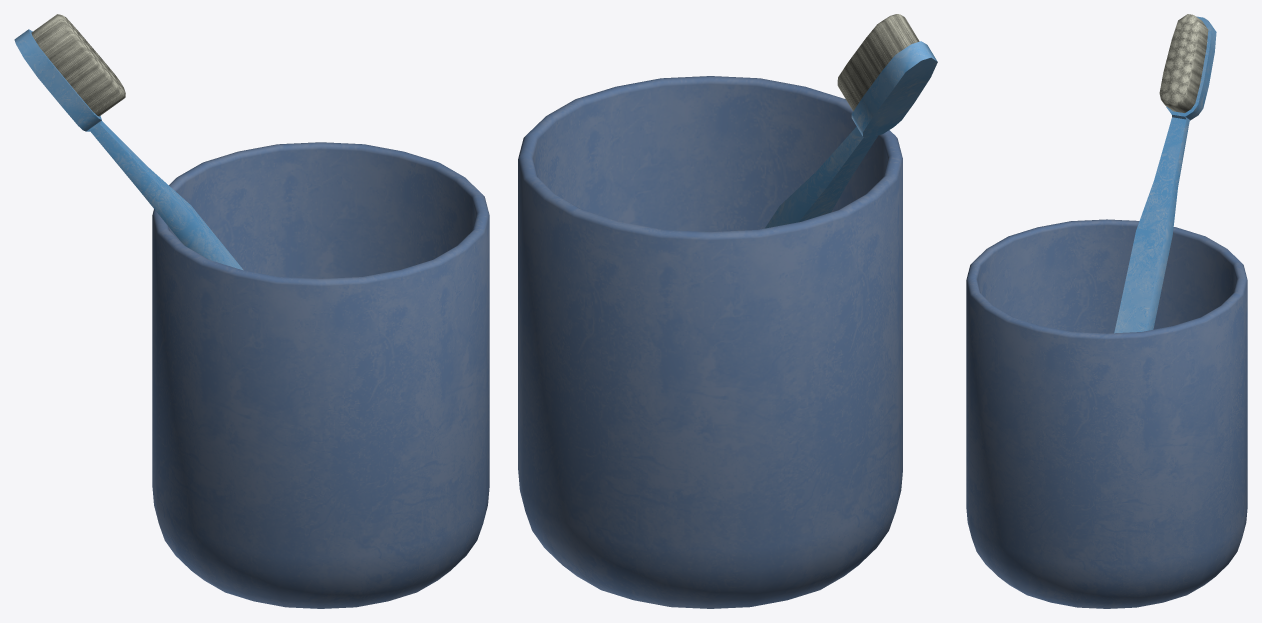
Rendered from toothbrush_w_cup.FBX.
3 views of the same model, side by side, from view 1: azimuth 30°, elevation 25°; view 2: azimuth 150°, elevation 25°; view 3: azimuth 270°, elevation 25° (orthographic). The views are drawn at different scales.
Parts seen in each view (by area): view 1: toothbrush_cup, toothbrush; view 2: toothbrush_cup, toothbrush; view 3: toothbrush_cup, toothbrush.
Part boxes in pixels (x1,y1,x2,y2): toothbrush_cup: (152,142,489,608); toothbrush: (14,14,243,270); toothbrush_cup: (518,76,902,608); toothbrush: (765,14,937,228); toothbrush_cup: (966,219,1247,608); toothbrush: (1114,14,1216,333).
Size of the model in its own units: 10.83 by 14.62 by 8.
Materials: 2 (2 with a texture image).
